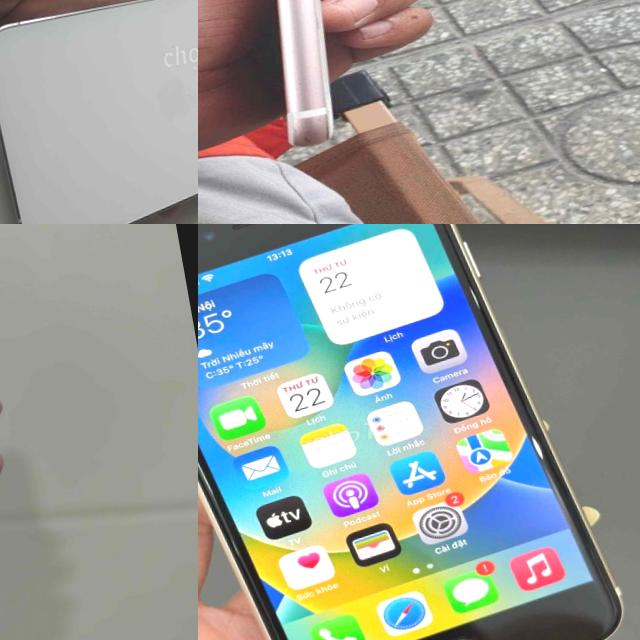scratch: (278, 23, 332, 92), (286, 94, 333, 148), (528, 434, 552, 468)
